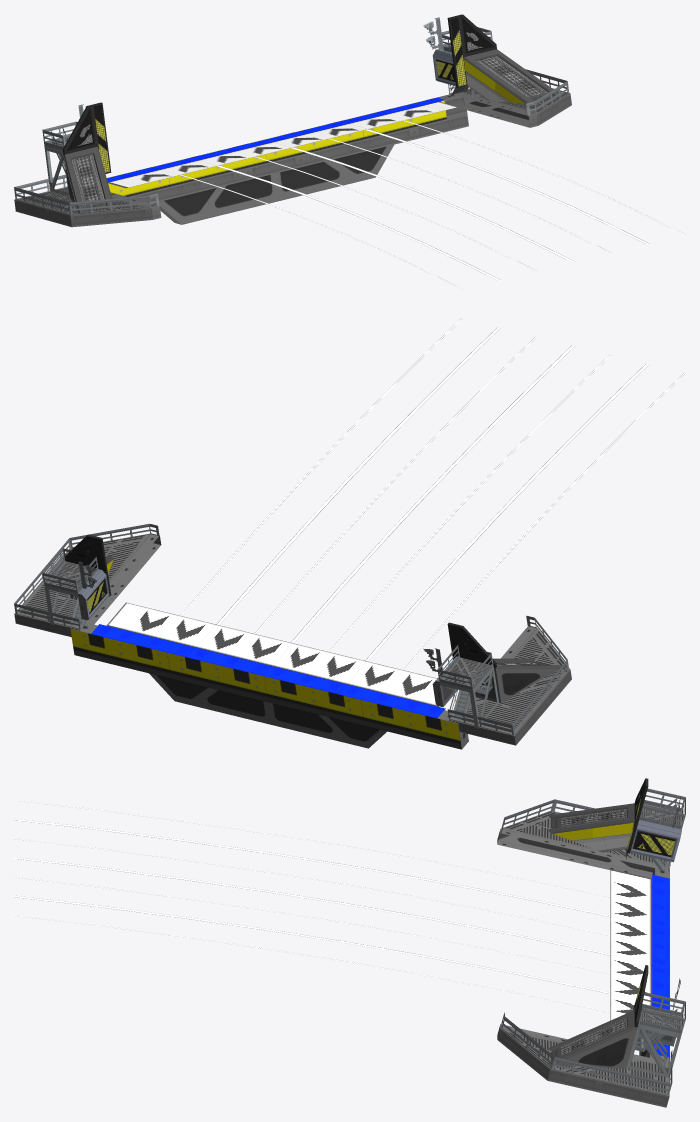
Rendered from jump_gate_area_curved_3.fbx.
3 renders of one model, top to bottom at view 1: azimuth 30°, elevation 25°; view 2: azimuth 150°, elevation 25°; view 3: azimuth 270°, elevation 25°, orthographic. The views are drawn at different scales.
Visible parts, largest first — view 1: gate, frontplate_jump, slp_to_flt_lines_jump; view 2: slp_to_flt_lines_jump, gate, frontplate_jump; view 3: gate, slp_to_flt_lines_jump.
Part boxes in pixels (bbox=[...]): gate: bbox=[14, 14, 571, 227]; frontplate_jump: bbox=[108, 94, 468, 224]; slp_to_flt_lines_jump: bbox=[107, 97, 685, 289]; slp_to_flt_lines_jump: bbox=[91, 318, 685, 718]; gate: bbox=[14, 523, 571, 745]; frontplate_jump: bbox=[70, 622, 468, 749]; gate: bbox=[497, 778, 685, 1107]; slp_to_flt_lines_jump: bbox=[14, 799, 669, 1057].
Bounding box in the file's own units: 5885 × 1778 × 6458.
